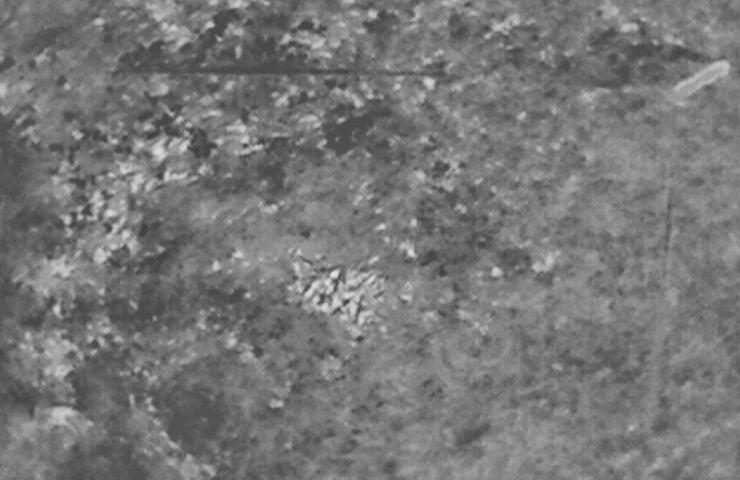landmines: (305, 262, 396, 336)
